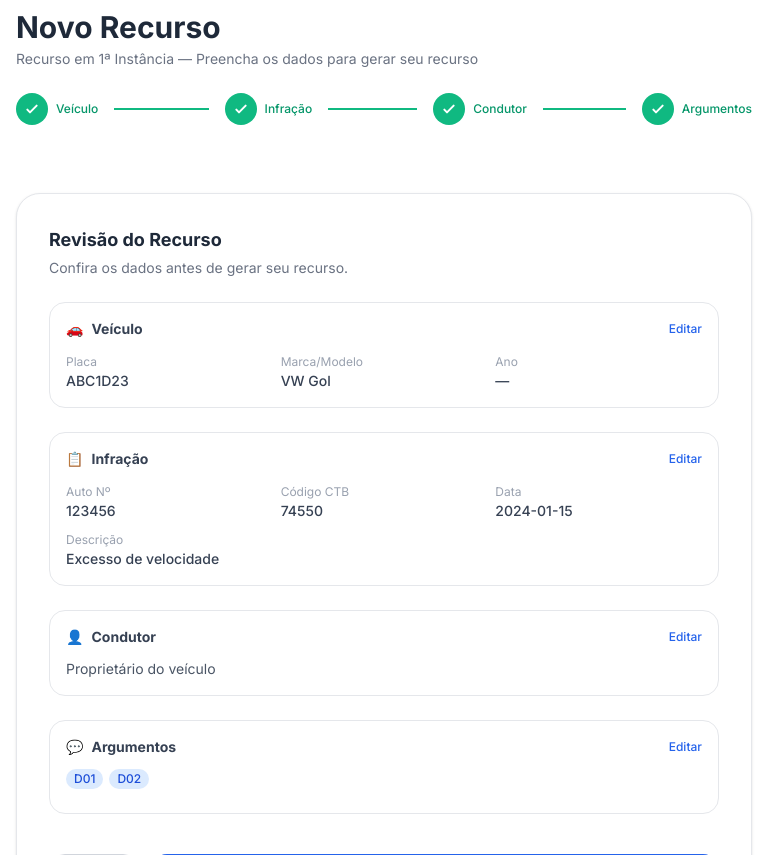
Test: NewAppealComponent › Review step › should navigate back to section on edit click
Click the 1st button "Editar" at (685, 329), box x1=669 y1=321 x2=702 y2=337
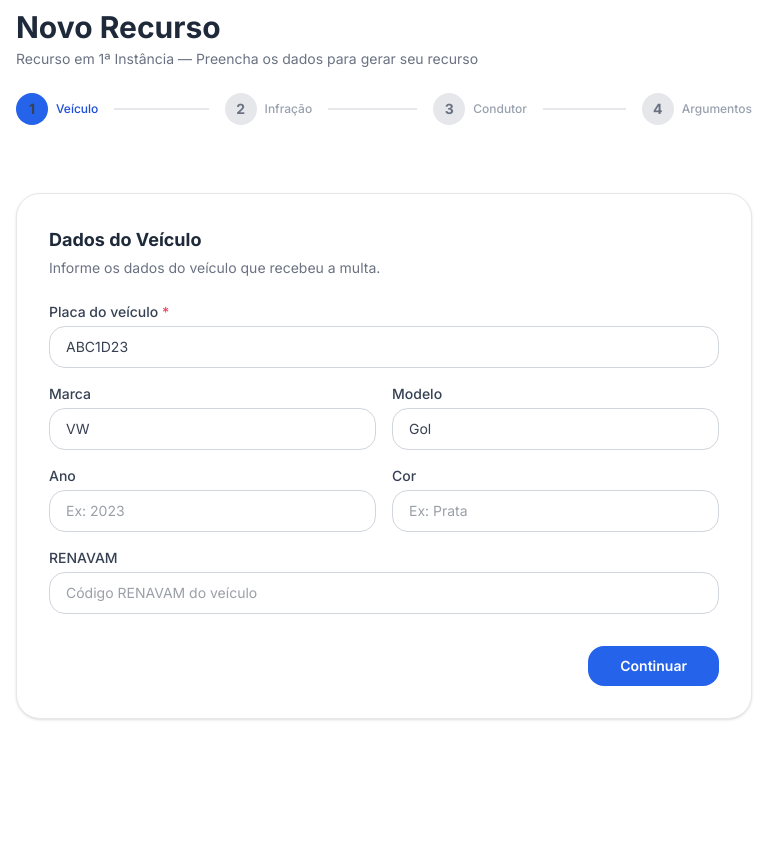
Expected: the element that starts with "Dados do Veículo" is shown, x1=49 y1=226 x2=719 y2=686
